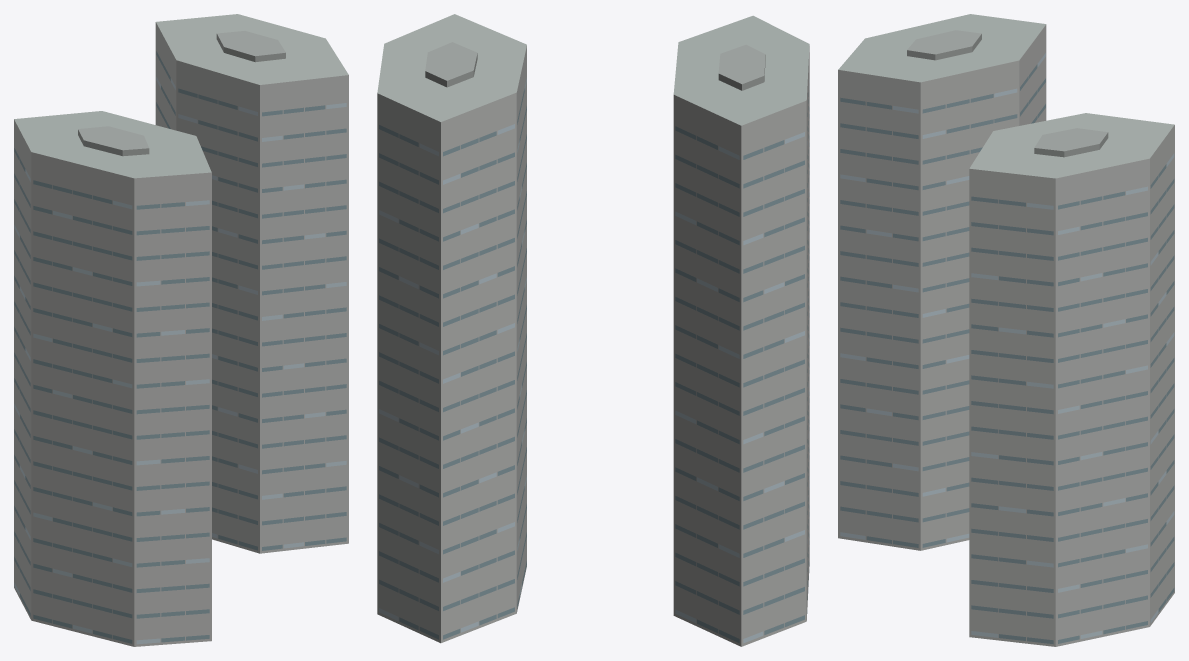
File: apt-a13585402.glb
The picture shows the model from 3 angles, left to right: view 1: azimuth 30°, elevation 25°; view 2: azimuth 150°, elevation 25°; view 3: azimuth 270°, elevation 25°; orthographic projection. The views are drawn at different scales.
Parts seen in each view (by area): view 1: apt-a13585402; view 2: apt-a13585402; view 3: apt-a13585402.
Part boxes in pixels (<box>): apt-a13585402: <box>14,14,348,646</box>; apt-a13585402: <box>377,14,809,646</box>; apt-a13585402: <box>838,14,1174,646</box>.
Bounding box in the file's own units: 142 × 191 × 123.
